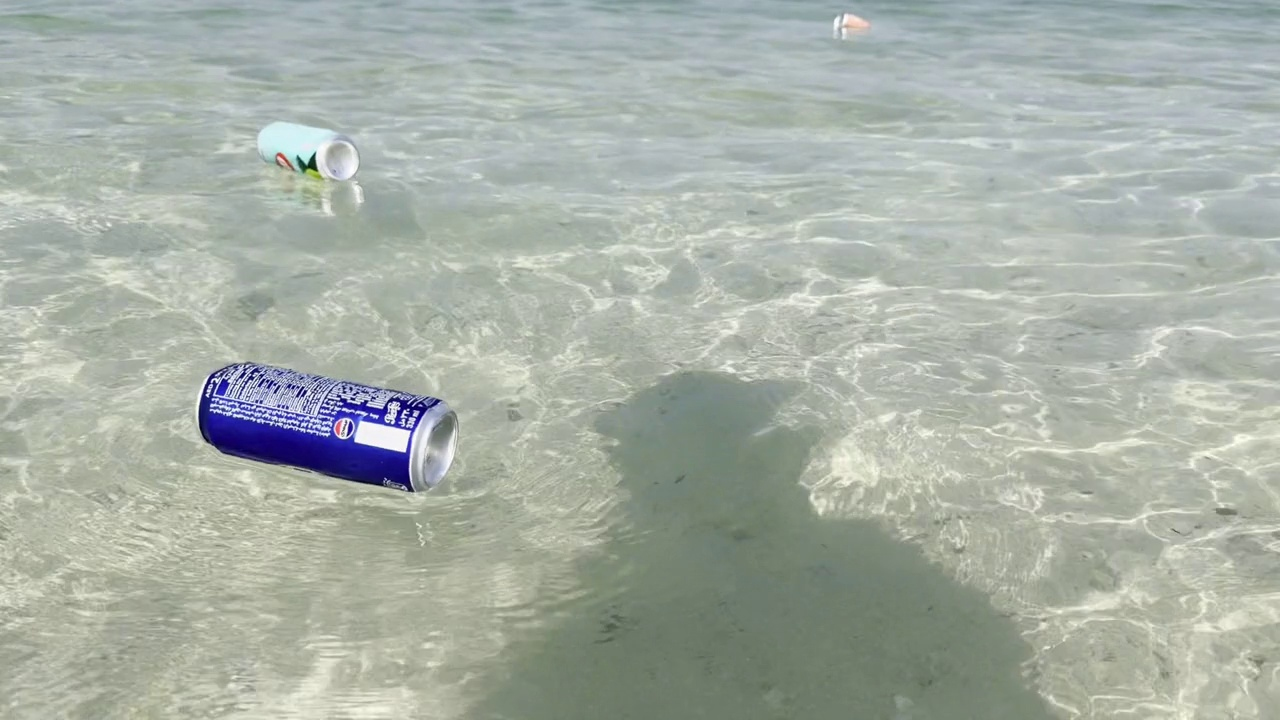debris: (196, 361, 471, 513), (246, 115, 363, 189), (827, 9, 876, 36)
